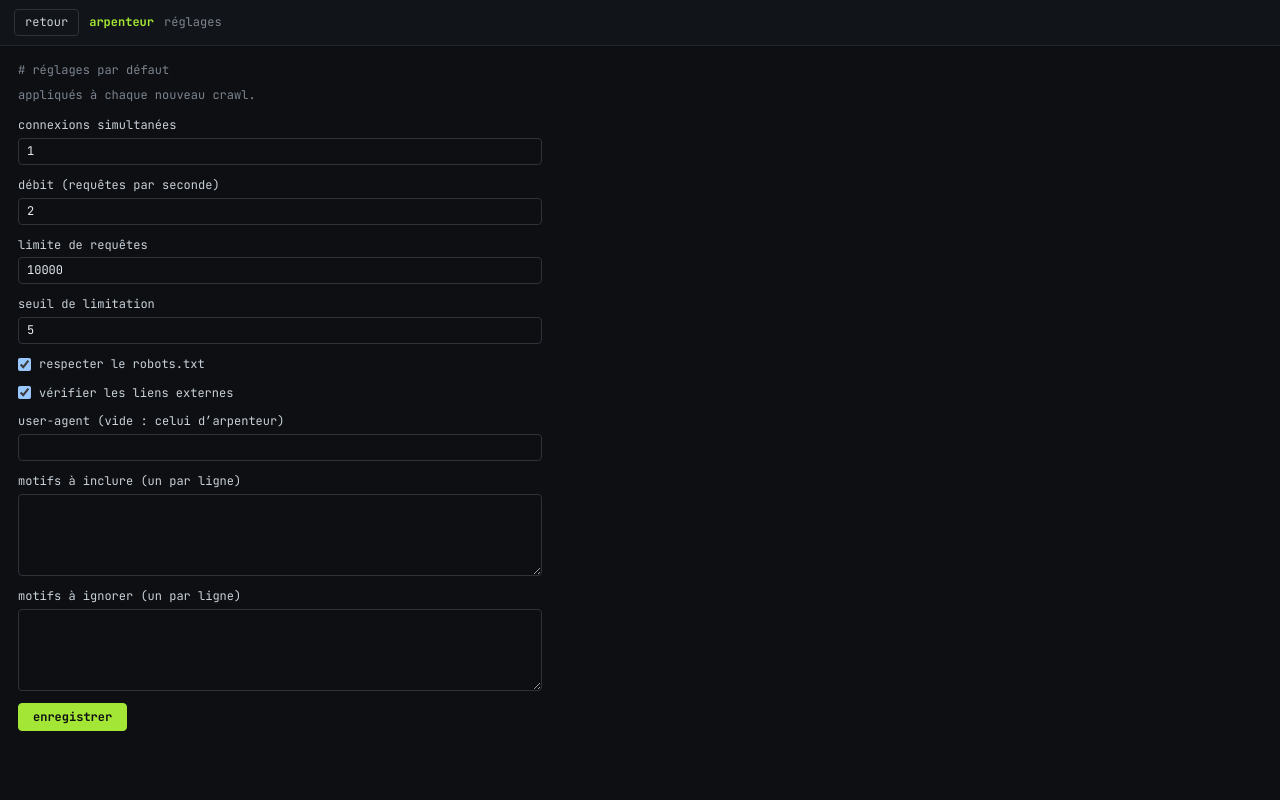
Scenario: limite de requêtes = « -1 » est refusé en français sans appeler saveSettings
Replace the text in the field labelled "limite de requêtes" with "-1" at point(280, 271), box 18,257 -> 542,284
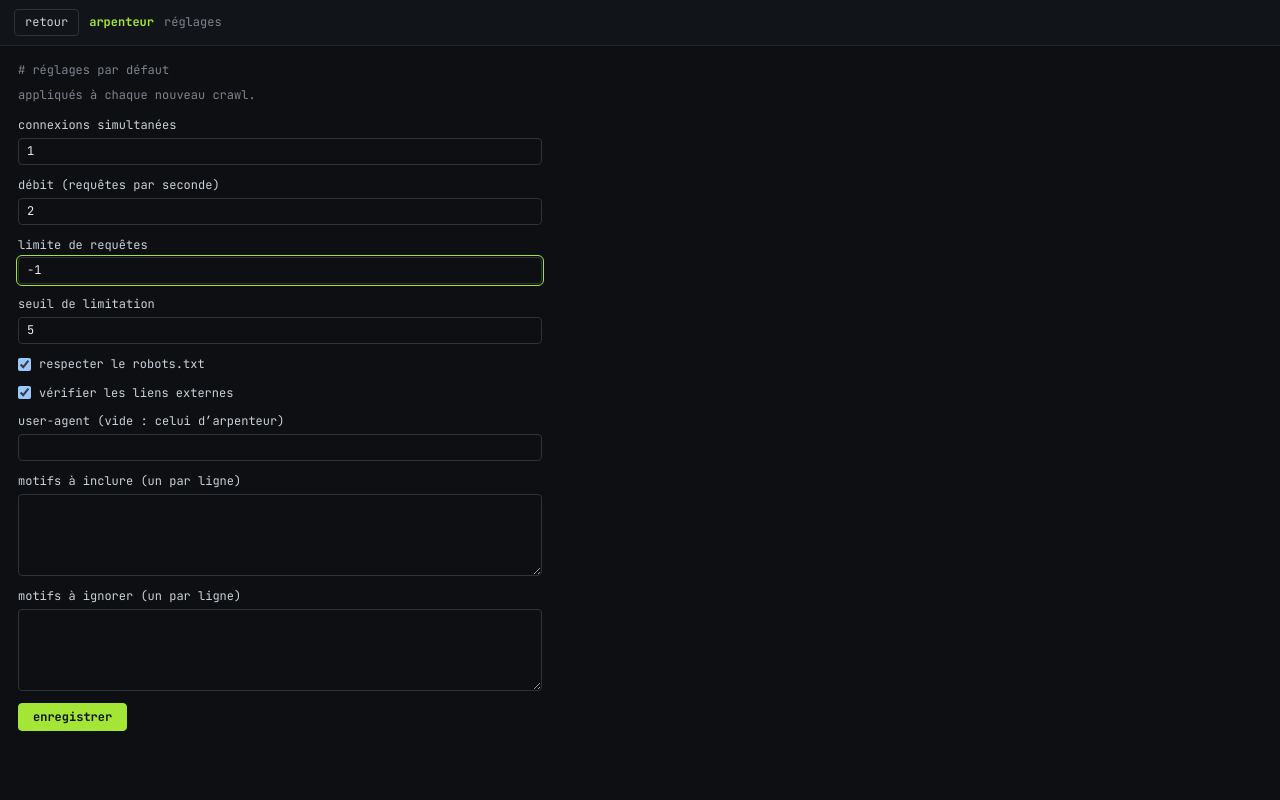
Click the button "enregistrer" at point(73, 717), box 18,702 -> 127,731
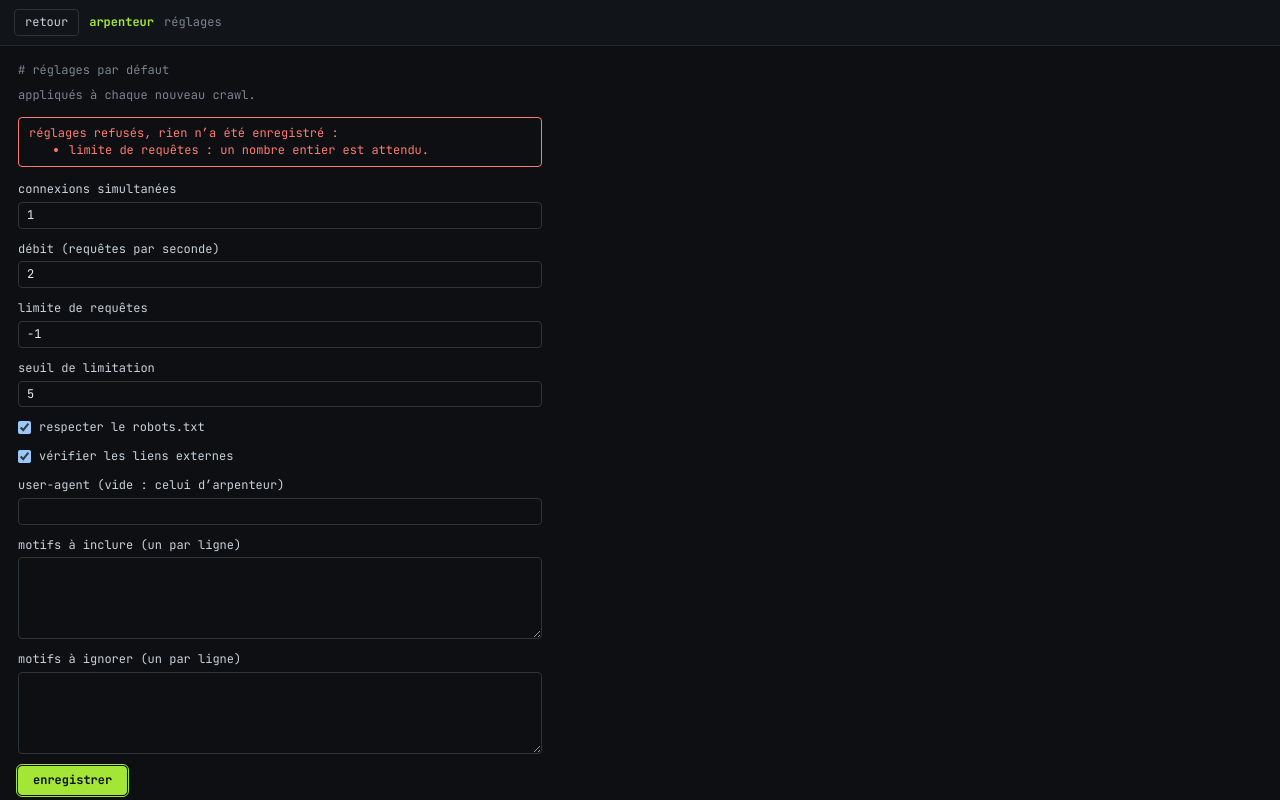
expect the message shows "limite de requêtes": met, box 69,142 -> 429,158
